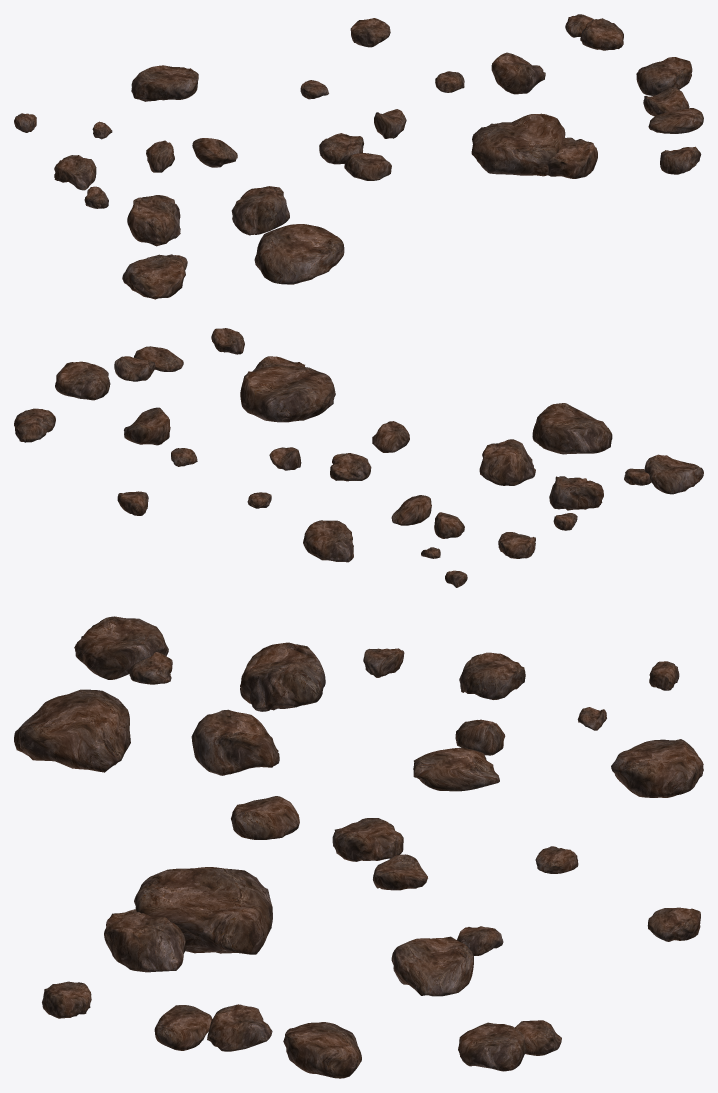
Rendered from shitou_6.fbx.
3 renders of one model, top to bottom at view 1: azimuth 30°, elevation 25°; view 2: azimuth 150°, elevation 25°; view 3: azimuth 270°, elevation 25°, orthographic. The views are drawn at different scales.
Visible parts, largest first — view 1: bolder58; view 2: bolder58; view 3: bolder58.
Boxes of the visible parts, left/top/right/bottom form: bolder58: left=14, top=14, right=703, bottom=299; bolder58: left=14, top=328, right=703, bottom=587; bolder58: left=14, top=616, right=703, bottom=1078.
Size of the model in its own units: 1253 by 84.55 by 805.
1 material, 1 textured.
